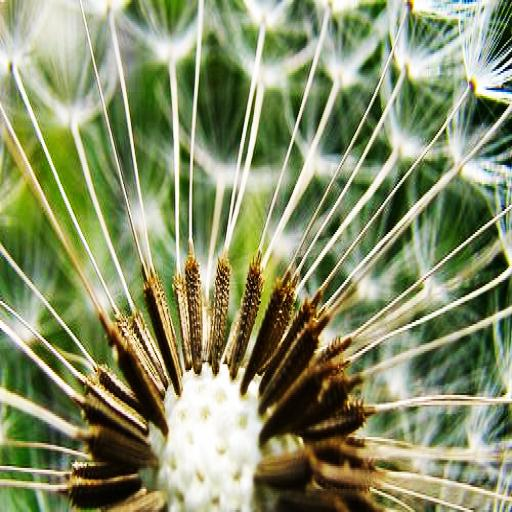dandelion: (4, 0, 509, 444)
